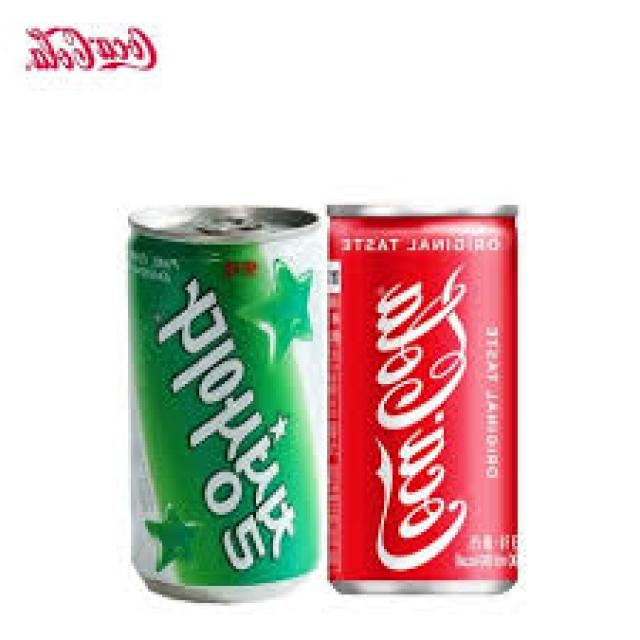Coca-Cola: (322, 189, 530, 604)
